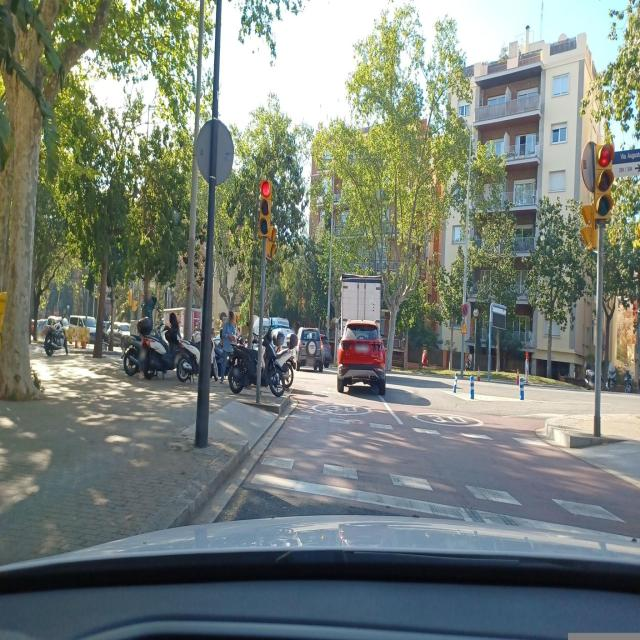forb_stopping: (462, 303, 469, 317)
